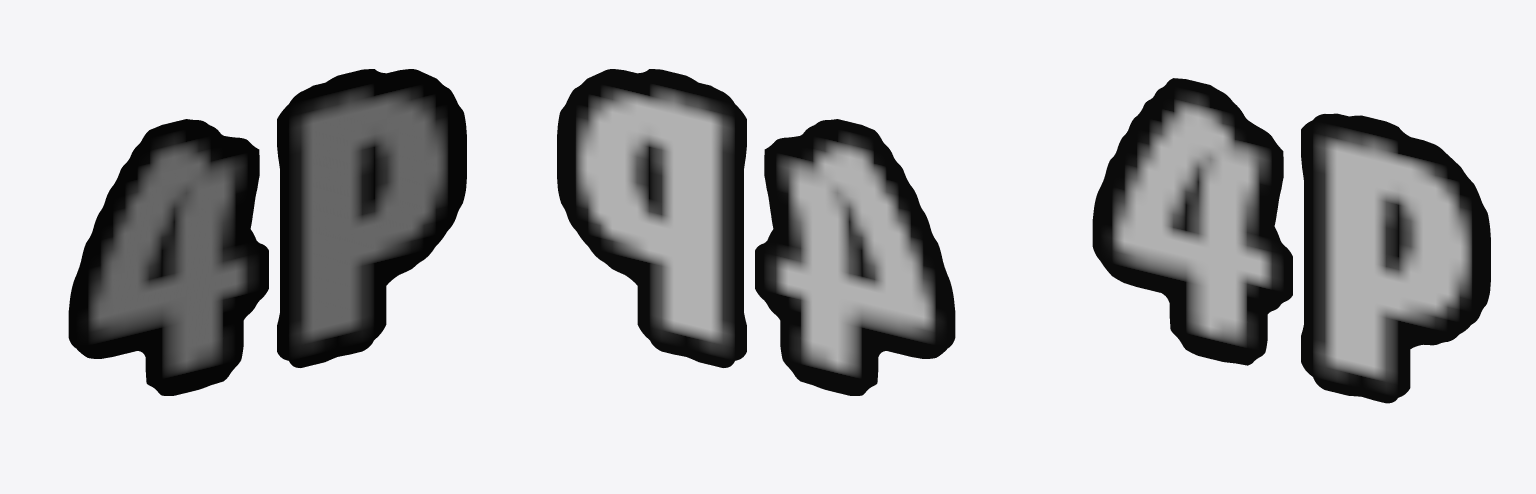
The picture shows the model from 3 angles, left to right: view 1: azimuth 30°, elevation 25°; view 2: azimuth 150°, elevation 25°; view 3: azimuth 330°, elevation 25°; orthographic projection.
Visible parts, largest first — view 1: Joint_0_Object_0; view 2: Joint_0_Object_0; view 3: Joint_0_Object_0.
Boxes of the visible parts, x1,y1,x2,y2 form: Joint_0_Object_0: [68, 69, 466, 395]; Joint_0_Object_0: [557, 69, 955, 395]; Joint_0_Object_0: [1092, 78, 1490, 403].
Bounding box in the file's own units: 26.39 × 18.14 × 0.
1 material, 1 textured.
